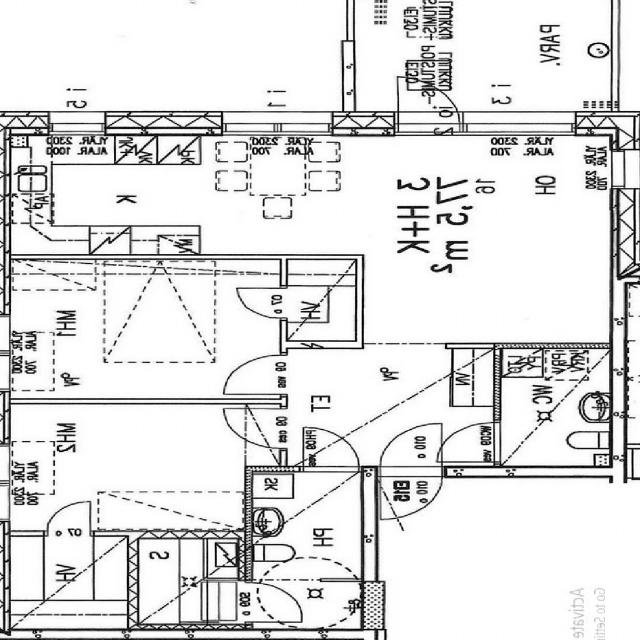door: (398, 68, 459, 136), (380, 466, 443, 522), (380, 423, 443, 478), (244, 583, 310, 623), (223, 409, 288, 448), (436, 423, 501, 462), (224, 356, 288, 394), (304, 428, 359, 472), (47, 501, 91, 537), (236, 288, 288, 318)
